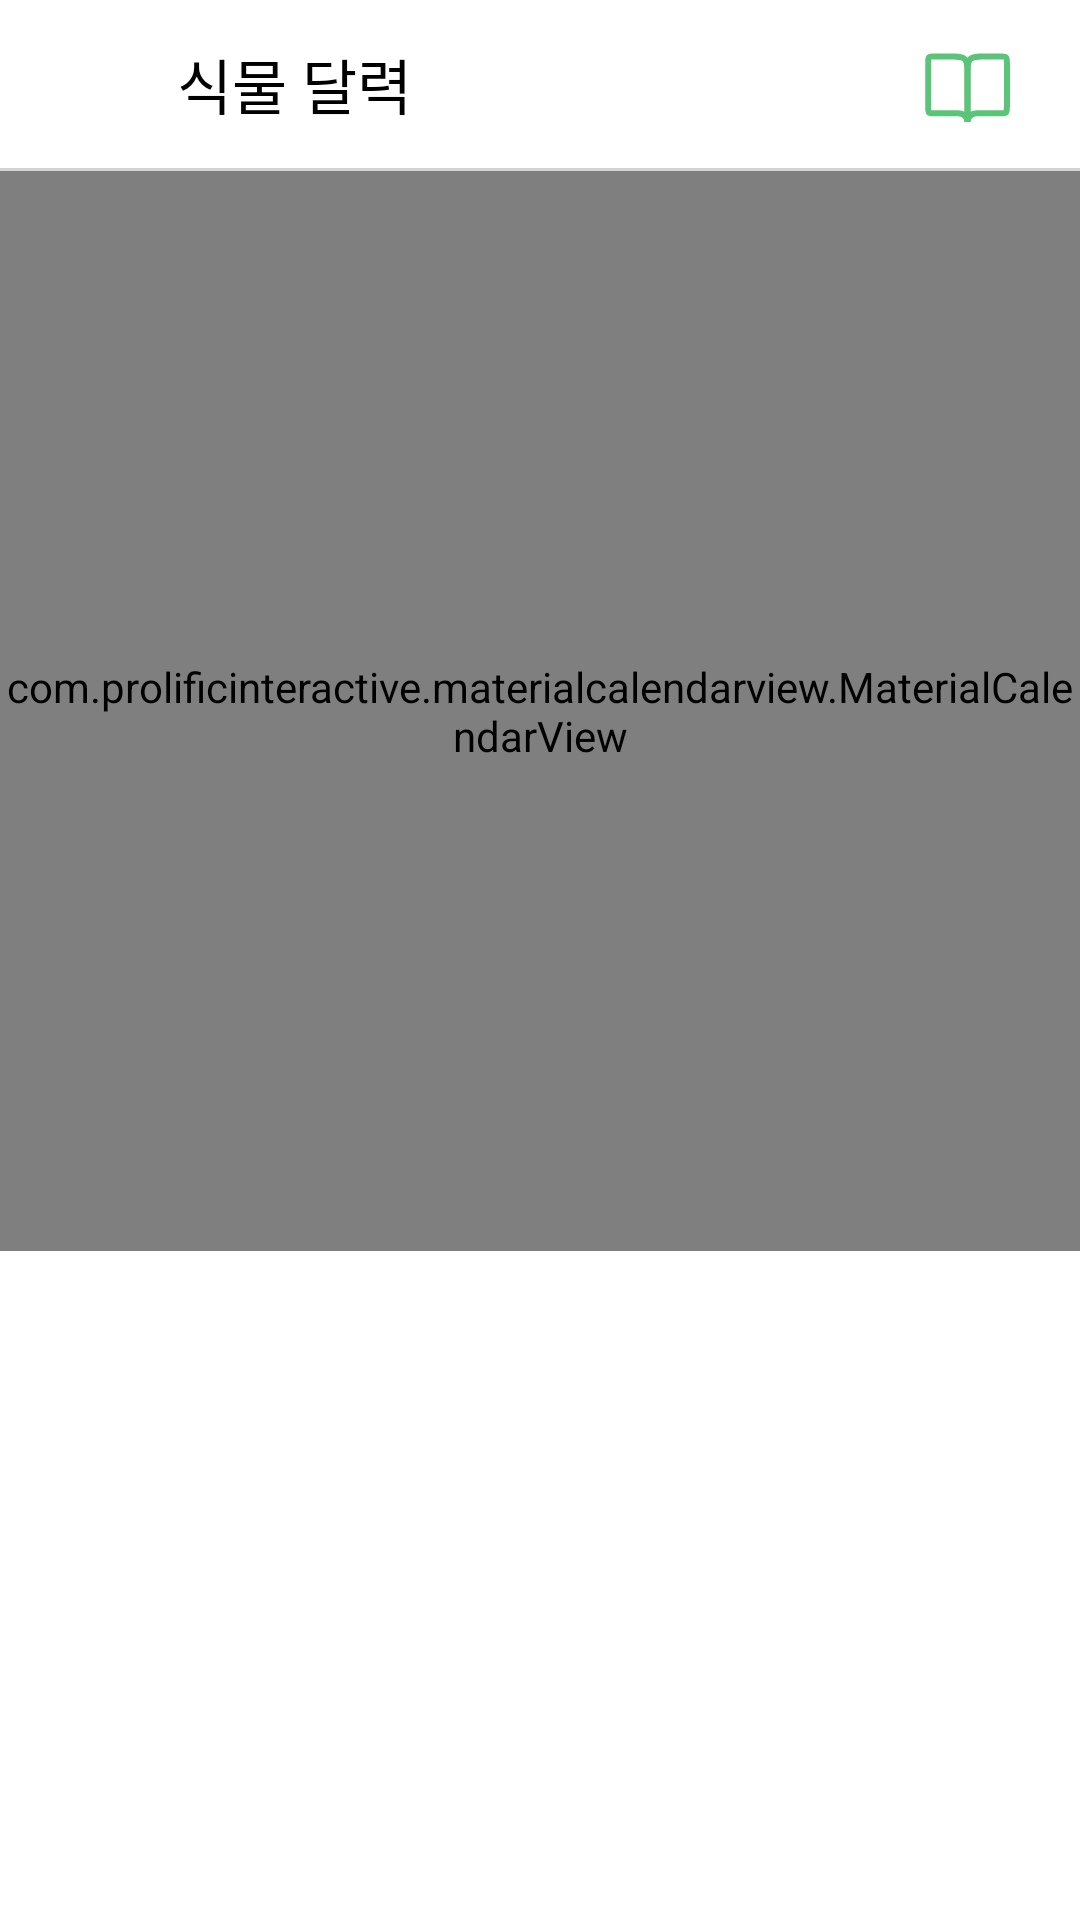

Where to tap for icons on this 1080w x 1920h app screen, as (x,y):
cal diary guidebook: (967,87)
